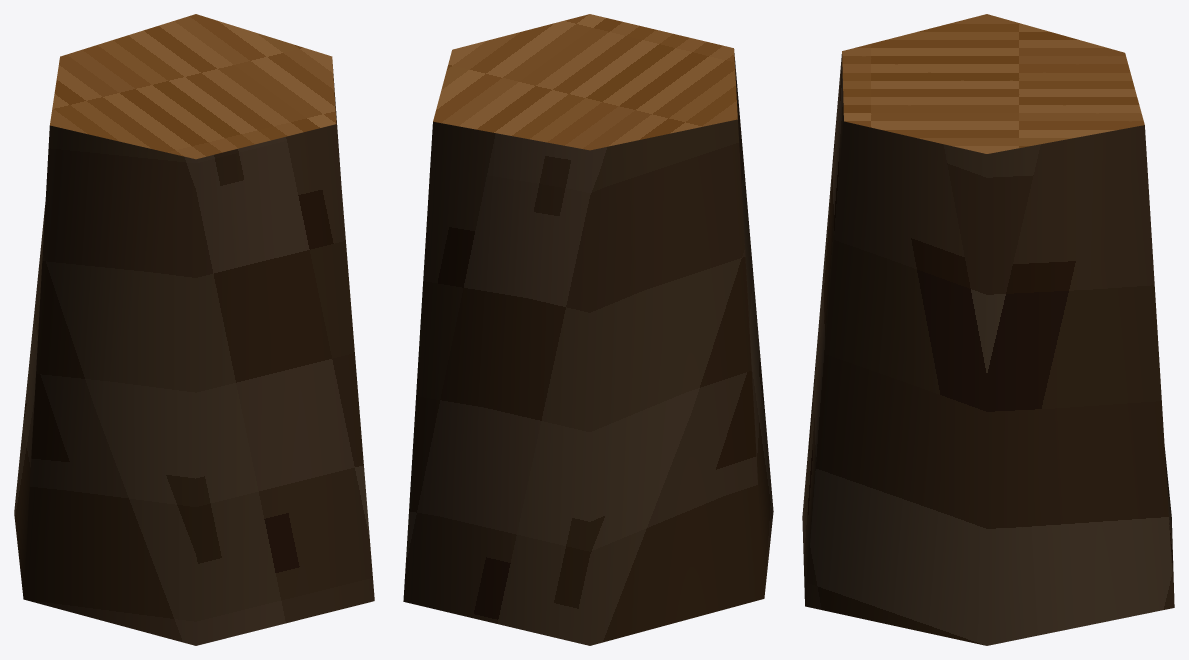
The model's file is stump03_update-lod2.glb.
3 views of the same model, side by side, from view 1: azimuth 30°, elevation 25°; view 2: azimuth 150°, elevation 25°; view 3: azimuth 270°, elevation 25° (orthographic).
Visible parts, largest first — view 1: TZ_stump_Batch_00_LOD2, TZ_stump_Batch_01_LOD2; view 2: TZ_stump_Batch_00_LOD2, TZ_stump_Batch_01_LOD2; view 3: TZ_stump_Batch_00_LOD2, TZ_stump_Batch_01_LOD2.
Part boxes in pixels (bbox=[...]): TZ_stump_Batch_00_LOD2: bbox=[14, 64, 374, 645]; TZ_stump_Batch_01_LOD2: bbox=[50, 14, 336, 159]; TZ_stump_Batch_00_LOD2: bbox=[403, 53, 773, 645]; TZ_stump_Batch_01_LOD2: bbox=[433, 14, 737, 150]; TZ_stump_Batch_00_LOD2: bbox=[802, 54, 1174, 645]; TZ_stump_Batch_01_LOD2: bbox=[842, 14, 1144, 153].
Size of the model in its own units: 0.5656 by 0.74 by 0.5249.
Materials: 2 (2 with a texture image).
